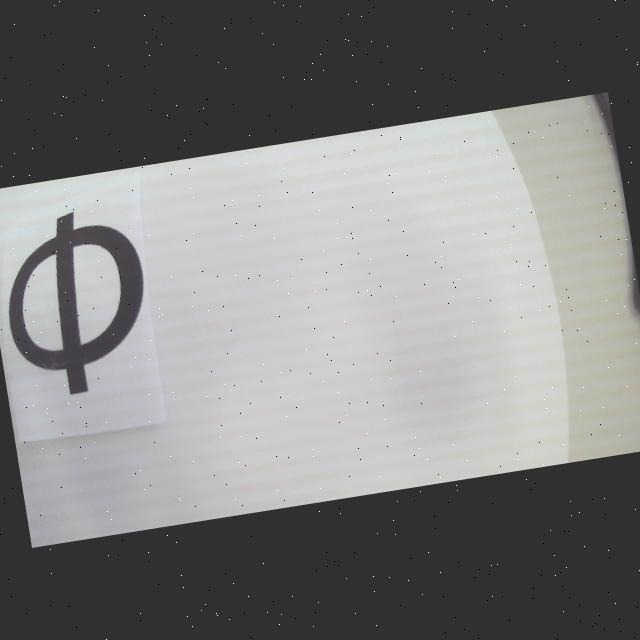PHI: (0, 201, 161, 404)
